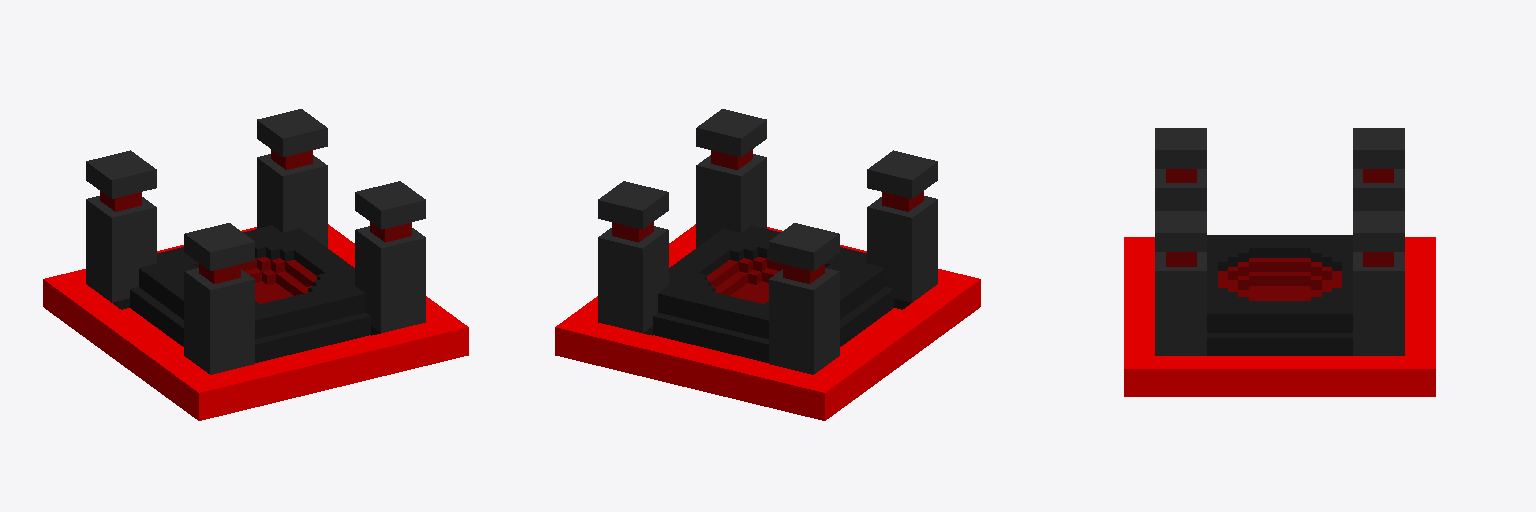
3 views of the same model, side by side, from view 1: azimuth 30°, elevation 25°; view 2: azimuth 150°, elevation 25°; view 3: azimuth 270°, elevation 25° (orthographic).
Visible parts, largest first — view 1: object 1; view 2: object 1; view 3: object 1.
Part boxes in pixels (bbox=[...]): object 1: bbox=[43, 109, 468, 420]; object 1: bbox=[555, 109, 980, 420]; object 1: bbox=[1124, 128, 1435, 396].
Size of the model in its own units: 3 by 1.6 by 3.
1 materials, 1 textured.